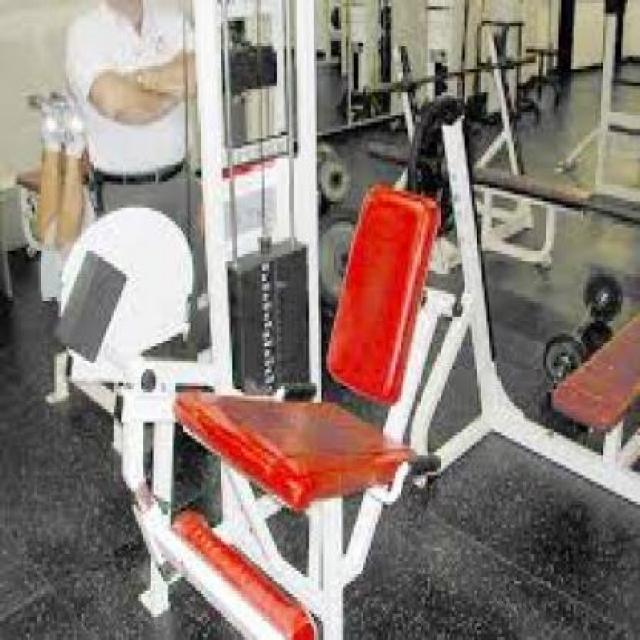leg extension: (43, 0, 475, 640)
